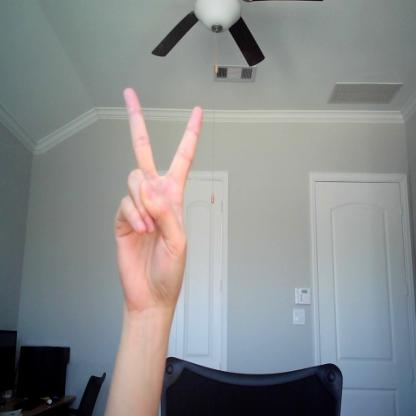V: (108, 85, 205, 311)
